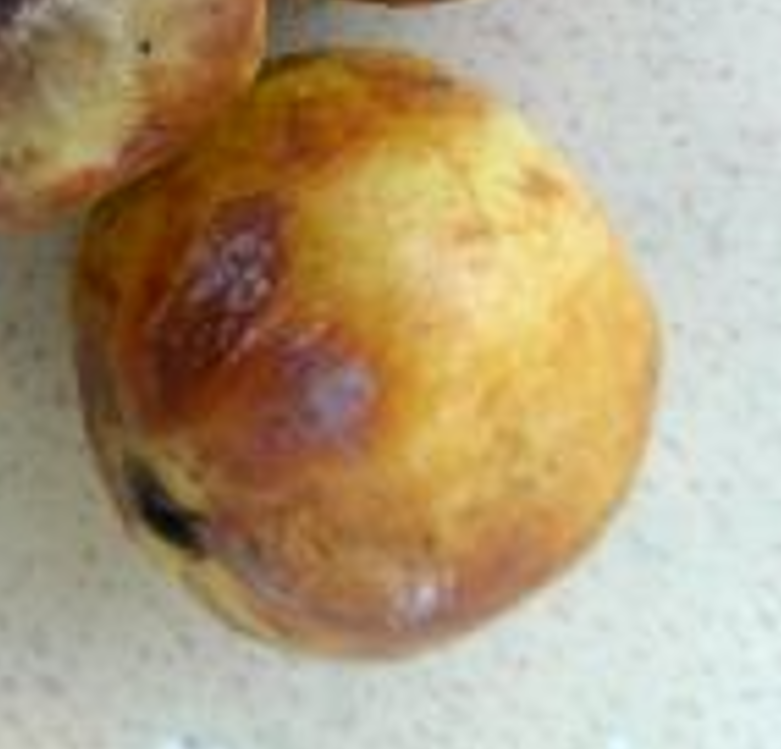guava_C: (70, 47, 665, 665)
